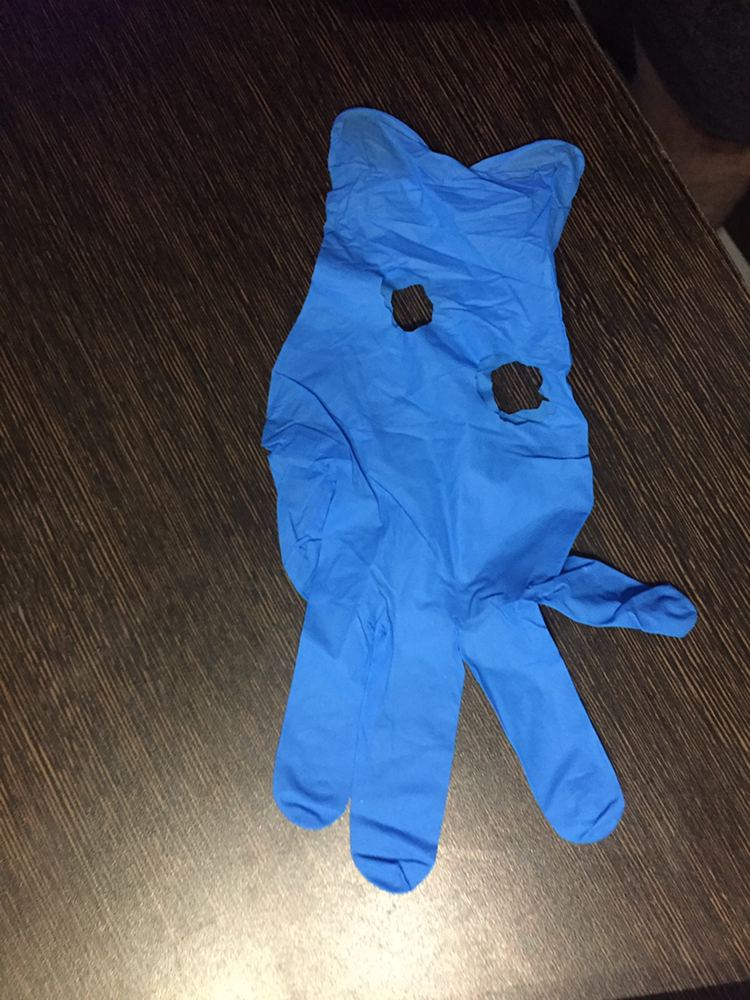defected: (206, 101, 704, 887)
